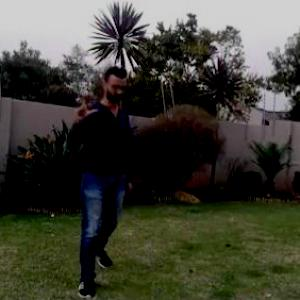land_hand: (70, 92, 101, 120)
